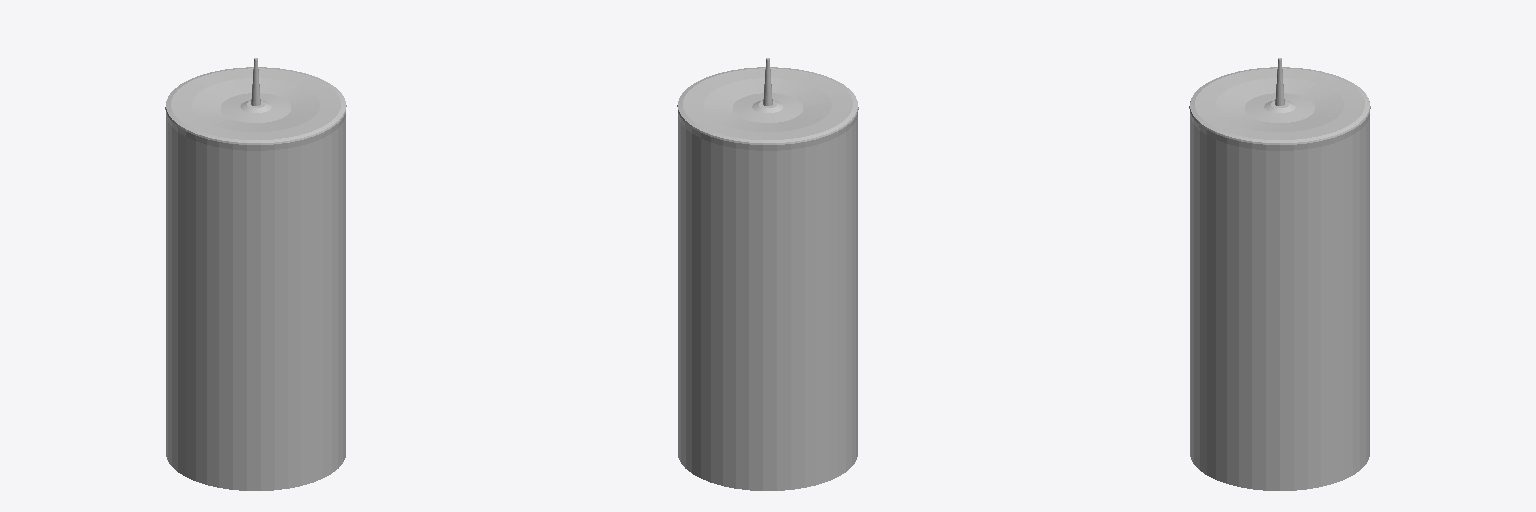
Rendered from candle.obj.
The picture shows the model from 3 angles: view 1: azimuth 30°, elevation 25°; view 2: azimuth 150°, elevation 25°; view 3: azimuth 270°, elevation 25°; orthographic projection.
Parts seen in each view (by area): view 1: candle1; view 2: candle1; view 3: candle1.
Part boxes in pixels (x1,y1,x2,y2): candle1: (165, 58, 346, 490); candle1: (677, 58, 858, 490); candle1: (1189, 58, 1370, 490).
Bounding box in the file's own units: 0.0604 × 0.1448 × 0.0604.